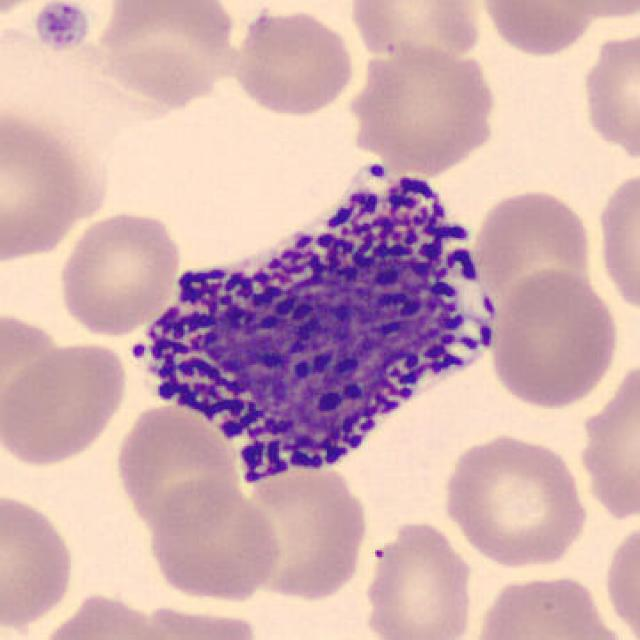Basophil: (116, 164, 514, 499)
Platelets: (31, 0, 92, 53)
RBC: (439, 430, 592, 571), (346, 39, 499, 176), (486, 264, 622, 411), (110, 397, 244, 538), (144, 476, 286, 607), (468, 183, 598, 323), (0, 104, 112, 266), (0, 337, 132, 469), (53, 208, 185, 339), (89, 0, 240, 106), (228, 3, 359, 120), (359, 516, 478, 640), (0, 488, 80, 632), (468, 569, 630, 640), (347, 0, 487, 67), (582, 367, 640, 525), (0, 311, 65, 450), (578, 23, 638, 166), (474, 0, 604, 60), (592, 164, 640, 321), (32, 589, 171, 640), (130, 603, 265, 640), (601, 515, 640, 640), (32, 1, 94, 54), (536, 0, 638, 19), (0, 0, 55, 23)
